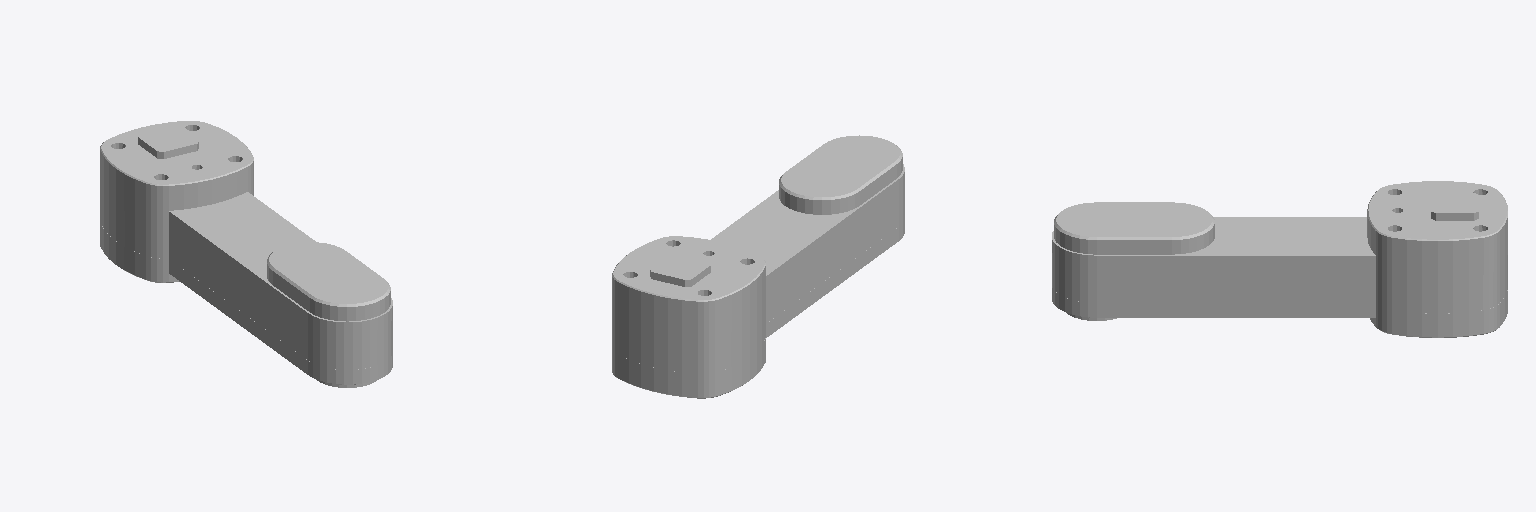
File: J1-axis.obj
3 views of the same model, side by side, from view 1: azimuth 30°, elevation 25°; view 2: azimuth 150°, elevation 25°; view 3: azimuth 270°, elevation 25° (orthographic).
Parts seen in each view (by area): view 1: Solid1; view 2: Solid1; view 3: Solid1.
Part boxes in pixels (x1,y1,x2,y2): Solid1: (100, 121, 392, 387); Solid1: (612, 135, 904, 398); Solid1: (1052, 181, 1507, 337).
Bounding box in the file's own units: 124 × 102 × 400.